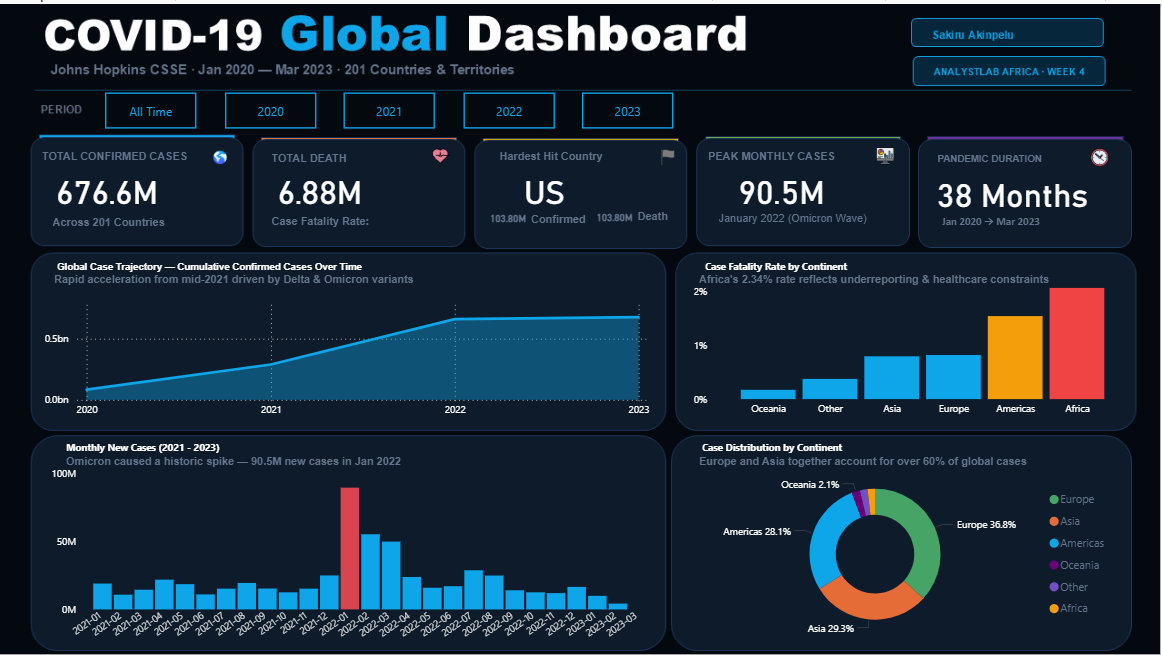

This screenshot's page, from the dashboard's own definition file:
{"tool":"powerbi","page":{"name":"Global Overview","canvas":[1280,720],"ordinal":0},"visuals":[{"type":"card","fields":{"Values":["Measure.Hardest Hit Country"]},"box":[547.2,175,108.2,57.3],"z":0},{"type":"card","fields":{"Values":["Measure.US COnfirmed Case"]},"box":[536,221.1,50.9,33.4],"z":1000},{"type":"textbox","box":[71.6,472.4,195.6,28.6],"z":2000},{"type":"textbox","box":[45.4,151.2,187.1,30.2],"z":3000},{"type":"card","fields":{"Values":["Measure.Total Confirmed"]},"box":[54.1,175,132,57.3],"z":4000},{"type":"textbox","box":[55.7,224.3,149.5,30.2],"z":5000},{"type":"textbox","box":[296.7,153.1,115.3,28.3],"z":6000},{"type":"textbox","box":[296.7,223,158.7,35.9],"z":7000},{"type":"card","fields":{"Values":["Measure.Total Deaths"]},"box":[287.9,175,132,57.3],"z":8000},{"type":"textbox","box":[547.2,151.1,136.8,30.2],"z":9000},{"type":"textbox","box":[582.1,221.1,79.4,37.8],"z":10000},{"type":"textbox","box":[699.2,217.3,58.6,37.8],"z":11000},{"type":"textbox","box":[776.2,151.1,160.7,30.2],"z":12000},{"type":"textbox","box":[788.9,219.5,187.7,39.8],"z":13000},{"type":"textbox","box":[1033.9,222.7,135.2,30.2],"z":14000},{"type":"textbox","box":[1029.1,152.7,160,30],"z":15000},{"type":"textbox","box":[769.9,472.4,197.2,28.6],"z":16000},{"type":"textbox","box":[773,272,197.2,28.6],"z":17000},{"type":"textbox","box":[60.4,272,351.5,28.6],"z":18000},{"type":"textbox","box":[57.3,286.3,418.3,39.8],"z":19000},{"type":"textbox","box":[71.6,486.7,397.7,28],"z":20000},{"type":"textbox","box":[766.7,486.7,419.9,39.8],"z":21000},{"type":"textbox","box":[766.7,286.3,419.9,39.8],"z":22000},{"type":"image","box":[232.2,152.7,25,30],"z":23000},{"type":"image","box":[469.2,151.1,40,30],"z":24000},{"type":"card","fields":{"Values":["Measure.US COnfirmed Case"]},"box":[653.7,219.5,50.9,33.4],"z":25000},{"type":"image","box":[717.4,152.7,40,30.2],"z":26000},{"type":"card","fields":{"Values":["Measure.Peak Monthly Cases"]},"box":[788.9,175,147.9,57.3],"z":27000},{"type":"image","box":[956,151.1,40,30.2],"z":28000},{"type":"card","fields":{"Values":["Measure.Pandemic Duration"]},"box":[1022.8,178.1,187.7,57.3],"z":29000},{"type":"stackedAreaChart","fields":{"Category":["COVID_Global.Date.Variation.Date Hierarchy.Year","COVID_Global.Date.Variation.Date Hierarchy.Quarter","COVID_Global.Date.Variation.Date Hierarchy.Month","COVID_Global.Date.Variation.Date Hierarchy.Day"],"Y":["Measure.Total Confirmed"]},"box":[46.1,313.4,676,149.5],"z":30000},{"type":"columnChart","fields":{"Category":["COVID_Global.Continent"],"Y":["Measure.CFR by Continent"]},"box":[761,272,490,190],"z":31000},{"type":"image","box":[1193,152.7,39.8,30.2],"z":32000},{"type":"clusteredColumnChart","fields":{"Y":["Measure.Monthly New Cases"],"Category":["COVID_Global.Month-Year"]},"box":[54.1,501,675,205],"z":33000},{"type":"donutChart","fields":{"Category":["COVID_Global.Continent"],"Y":["Measure.Total Confirmed"]},"box":[769.1,506.5,463,196.5],"z":34000},{"type":"actionButton","box":[119,96.5,100.5,39.7],"z":36000},{"type":"actionButton","box":[250.3,96.5,100.5,39.7],"z":37000},{"type":"actionButton","box":[381.5,96.5,100.5,39.7],"z":38000},{"type":"actionButton","box":[512.8,96.5,100.5,39.7],"z":39000},{"type":"actionButton","box":[644,96.5,100.5,39.7],"z":40000}]}

Visuals, with their boxes in screenshot pixels (x1, y1, x2, y2), scaled from the page's 1280x720 canvas onto the 1162x655 screenshot:
card - Measure.Hardest Hit Country: box(497, 159, 595, 211)
card - Measure.US COnfirmed Case: box(487, 201, 533, 232)
textbox: box(65, 430, 243, 456)
textbox: box(41, 138, 211, 165)
card - Measure.Total Confirmed: box(49, 159, 169, 211)
textbox: box(51, 204, 186, 232)
textbox: box(269, 139, 374, 165)
textbox: box(269, 203, 413, 236)
card - Measure.Total Deaths: box(261, 159, 381, 211)
textbox: box(497, 137, 621, 165)
textbox: box(528, 201, 601, 236)
textbox: box(635, 198, 688, 232)
textbox: box(705, 137, 851, 165)
textbox: box(716, 200, 887, 236)
textbox: box(939, 203, 1061, 230)
textbox: box(934, 139, 1079, 166)
textbox: box(699, 430, 878, 456)
textbox: box(702, 247, 881, 273)
textbox: box(55, 247, 374, 273)
textbox: box(52, 260, 432, 297)
textbox: box(65, 443, 426, 468)
textbox: box(696, 443, 1077, 479)
textbox: box(696, 260, 1077, 297)
image: box(211, 139, 233, 166)
image: box(426, 137, 462, 165)
card - Measure.US COnfirmed Case: box(593, 200, 640, 230)
image: box(651, 139, 688, 166)
card - Measure.Peak Monthly Cases: box(716, 159, 850, 211)
image: box(868, 137, 904, 165)
card - Measure.Pandemic Duration: box(929, 162, 1099, 214)
stackedAreaChart - COVID_Global.Date.Variation.Date Hierarchy.Year x COVID_Global.Date.Variation.Date Hierarchy.Quarter: box(42, 285, 656, 421)
columnChart - COVID_Global.Continent x Measure.CFR by Continent: box(691, 247, 1136, 420)
image: box(1083, 139, 1119, 166)
clusteredColumnChart - Measure.Monthly New Cases x COVID_Global.Month-Year: box(49, 456, 662, 642)
donutChart - COVID_Global.Continent x Measure.Total Confirmed: box(698, 461, 1119, 640)
actionButton: box(108, 88, 199, 124)
actionButton: box(227, 88, 318, 124)
actionButton: box(346, 88, 438, 124)
actionButton: box(466, 88, 557, 124)
actionButton: box(585, 88, 676, 124)
